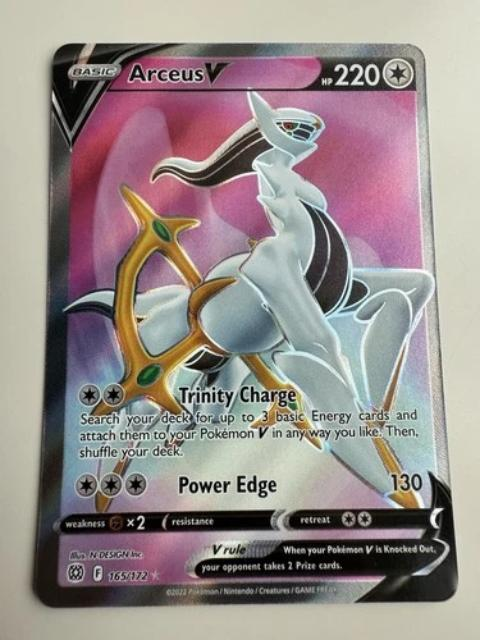Card: (28, 36, 465, 611)
Name: (124, 55, 228, 87)
